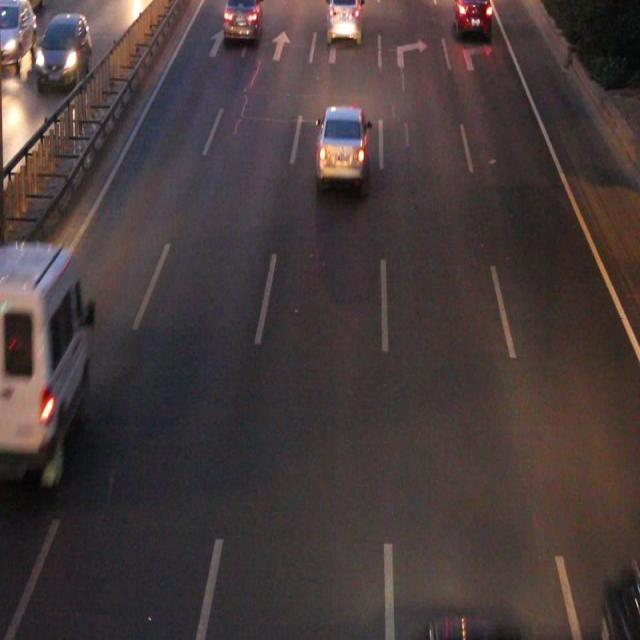car: (318, 109, 364, 178), (223, 1, 260, 38), (327, 1, 360, 39), (454, 1, 489, 33)
truck: (0, 244, 86, 471)
